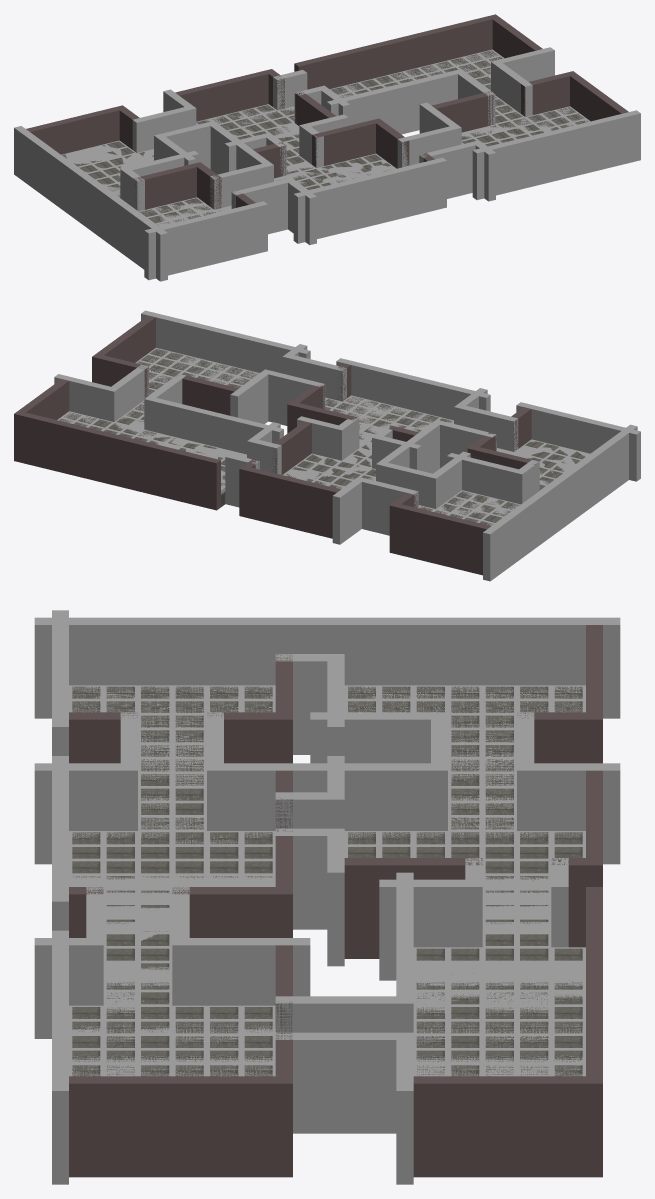
The model's file is second_level.fbx.
3 views of the same model, one above another, from view 1: azimuth 30°, elevation 25°; view 2: azimuth 150°, elevation 25°; view 3: azimuth 270°, elevation 25° (orthographic). The views are drawn at different scales.
Parts seen in each view (by area): view 1: escenary_2_limits, level_2_plane, level_2_walls_5_1, level_2_walls_3_1, level_2_walls_1_2, level_2_walls_4_2, level_2_walls_2_1, level_2_walls_6_1, level_2_walls_6_3, level_2_walls_6_2, level_2_walls_5_2, level_2_walls_4_3 (+4 smaller); view 2: escenary_2_limits, level_2_walls_5_1, level_2_plane, level_2_walls_3_1, level_2_walls_1_2, level_2_walls_6_3, level_2_walls_6_1, level_2_walls_3_3, level_2_walls_5_2, level_2_walls_6_2, level_2_walls_4_2, level_2_walls_2_1 (+2 smaller); view 3: escenary_2_limits, level_2_plane, level_2_walls_6_3, level_2_walls_5_2, level_2_walls_3_3, level_2_walls_5_1, level_2_walls_4_3, level_2_walls_2_2, level_2_walls_2_3, level_2_walls_1_1, level_2_walls_6_2, level_2_walls_1_2 (+6 smaller).
Boxes of the visible parts, <box> form: escenary_2_limits: <box>14,47,640,281</box>; level_2_plane: <box>61,49,590,226</box>; level_2_walls_5_1: <box>294,14,499,89</box>; level_2_walls_3_1: <box>175,69,275,121</box>; level_2_walls_1_2: <box>26,105,126,154</box>; level_2_walls_4_2: <box>312,118,383,167</box>; level_2_walls_2_1: <box>134,162,203,211</box>; level_2_walls_6_1: <box>432,91,495,132</box>; level_2_walls_6_3: <box>570,74,628,121</box>; level_2_walls_6_2: <box>521,71,576,116</box>; level_2_walls_5_2: <box>492,17,542,58</box>; level_2_walls_4_3: <box>376,121,409,168</box>; escenary_2_limits: <box>54,310,640,581</box>; level_2_walls_5_1: <box>14,411,220,510</box>; level_2_plane: <box>57,348,589,525</box>; level_2_walls_3_1: <box>239,465,340,538</box>; level_2_walls_1_2: <box>389,502,490,575</box>; level_2_walls_6_3: <box>97,315,155,362</box>; level_2_walls_6_1: <box>177,374,238,415</box>; level_2_walls_3_3: <box>272,421,311,474</box>; level_2_walls_5_2: <box>18,379,69,419</box>; level_2_walls_6_2: <box>92,353,148,398</box>; level_2_walls_4_2: <box>287,401,359,446</box>; level_2_walls_2_1: <box>467,445,537,469</box>; escenary_2_limits: <box>34,610,620,1184</box>; level_2_plane: <box>69,685,585,1076</box>; level_2_walls_6_3: <box>69,1076,275,1177</box>; level_2_walls_5_2: <box>413,1076,585,1177</box>; level_2_walls_3_3: <box>344,858,482,958</box>; level_2_walls_5_1: <box>586,887,602,1177</box>; level_2_walls_4_3: <box>172,887,275,937</box>; level_2_walls_2_2: <box>207,712,275,763</box>; level_2_walls_2_3: <box>69,712,137,763</box>; level_2_walls_1_1: <box>517,712,585,763</box>; level_2_walls_6_2: <box>275,1032,292,1177</box>; level_2_walls_1_2: <box>586,625,602,763</box>.
Size of the model in its own units: 33 by 3 by 17.
